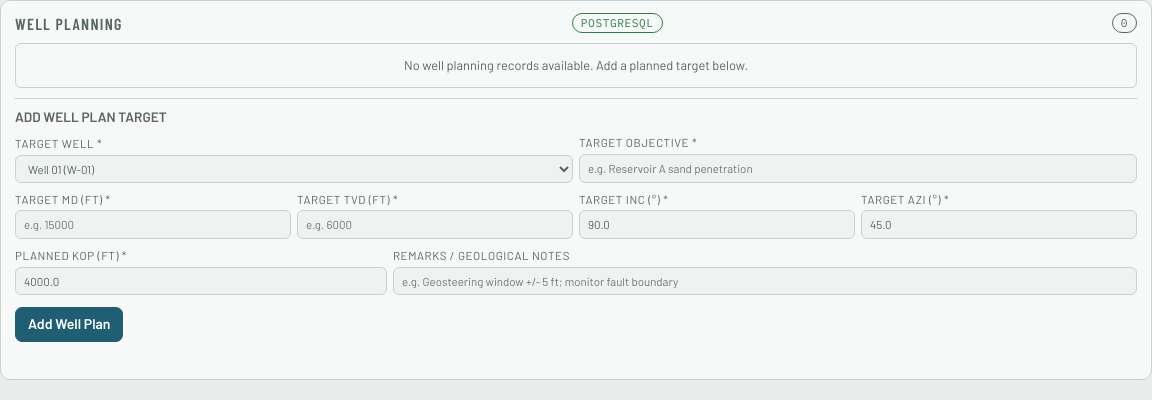
<WellPlanningEditor> › displays validation error if TVD exceeds MD
The width and height of the screenshot is (1152, 400).
Type "Deep Gas Target" into the field labelled "Target Objective *" at (858, 168), box [579,154,1137,183]
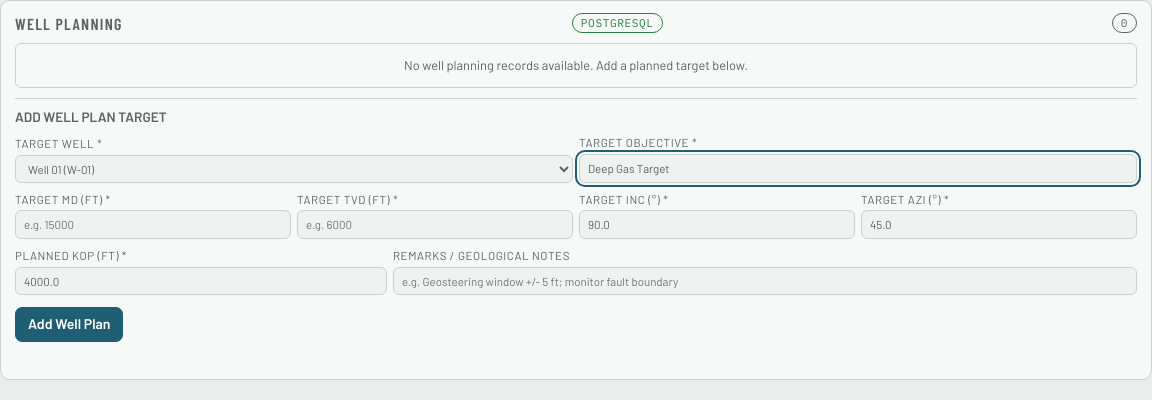
Type "6000" into the number field named "target depth md" at (153, 225), box [15,210,291,239]
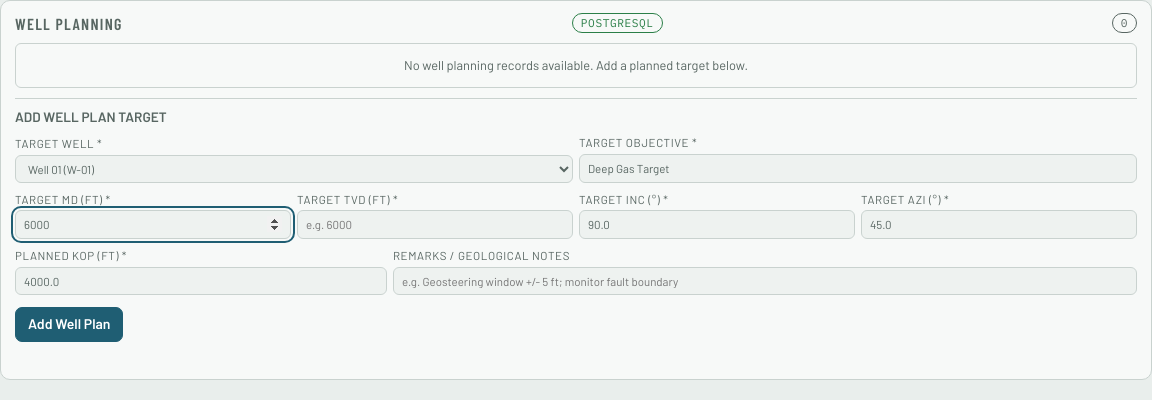
Type "8000" into the number field named "target depth tvd" at (435, 225), box [297,210,573,239]
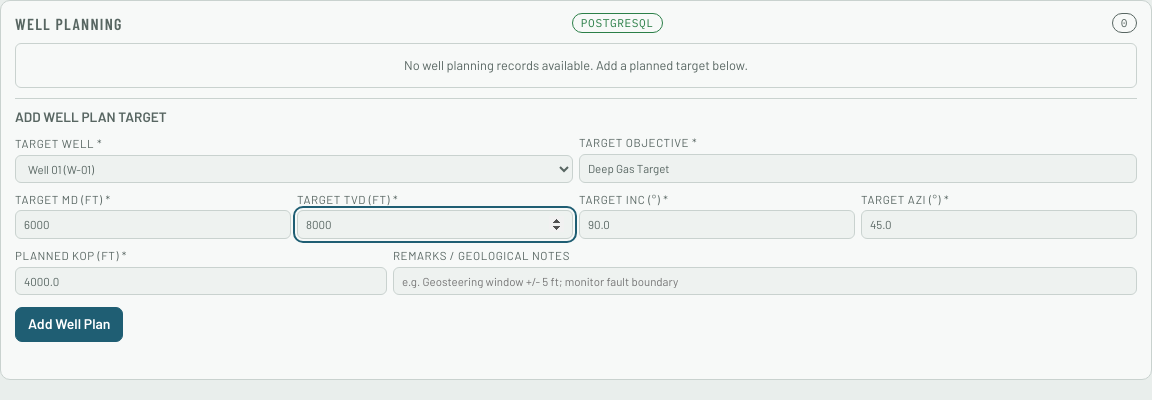
Click the button "Add Well Plan" at (69, 325), box [15,307,124,342]
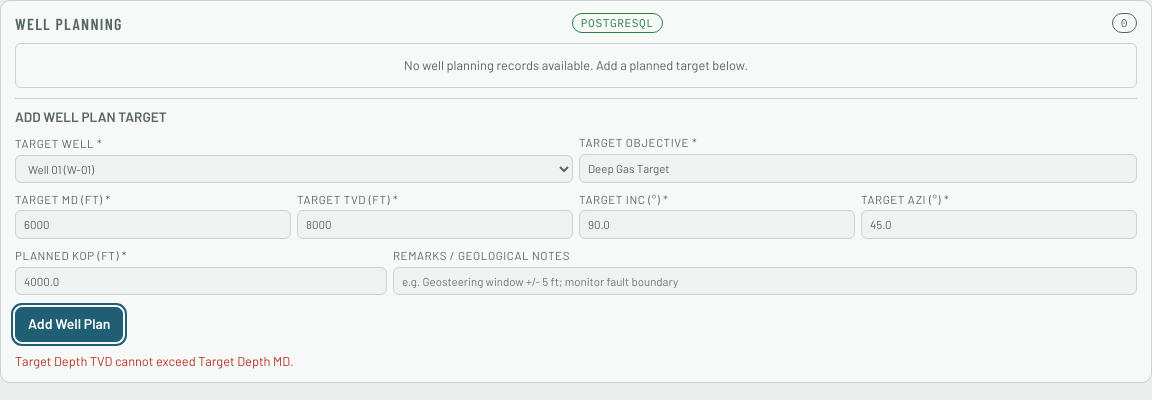
expect the text "Target Depth TVD cannot exceed Target Depth MD." is shown: met, box [15,353,294,369]
